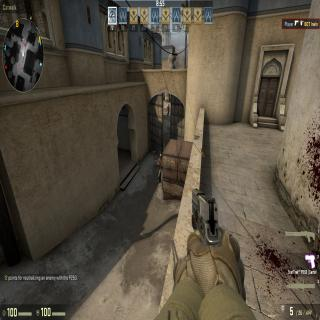T-Body: (157, 153, 163, 187)
T-Head: (159, 154, 162, 160)
